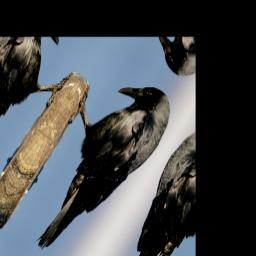Crow: (0, 47, 184, 256)
